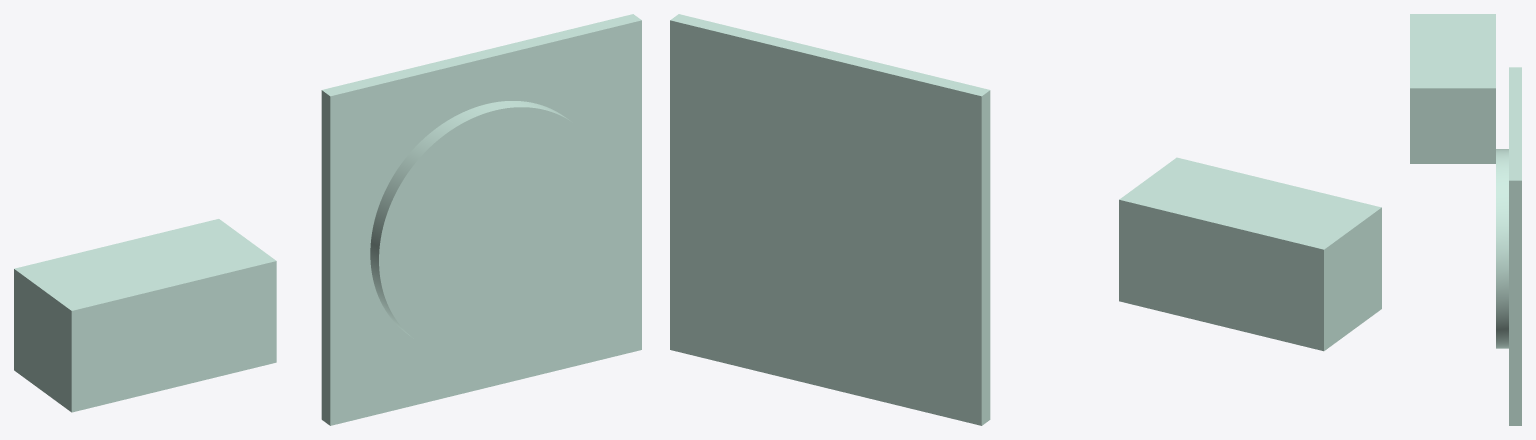
3 views of the same model, side by side, from view 1: azimuth 30°, elevation 25°; view 2: azimuth 150°, elevation 25°; view 3: azimuth 270°, elevation 25° (orthographic). The views are drawn at different scales.
Visible parts, largest first — view 1: Renderer Node; view 2: Renderer Node; view 3: Renderer Node.
Boxes of the visible parts, x1,y1,x2,y2 form: Renderer Node: (14,14,641,425); Renderer Node: (670,14,1381,425); Renderer Node: (1410,14,1521,425).
Bounding box in the file's own units: 0.9948 × 0.4922 × 0.2031.
